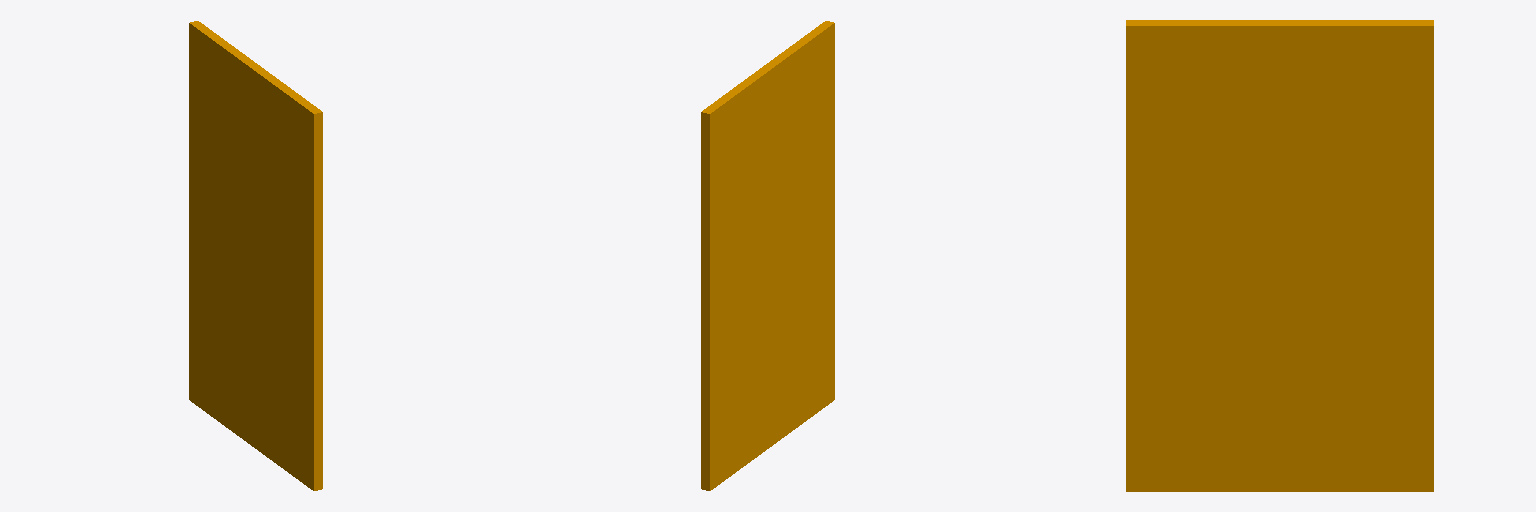
robot.urdf — simple_box:
<robot name="simple_box">

  <link name="my_box" >
    <inertial>
      <origin xyz="1 0 0" />
      <mass value="1.0" />
      <inertia  ixx="1.0" ixy="0.0"  ixz="0.0"  iyy="1.0"  iyz="0.0"  izz="1.0" />
    </inertial>
    <visual>
      <origin xyz="1 0 0"/>
      <geometry>
        <box size="0.05 1.2 2" />
      </geometry>
    </visual>
    <collision>
      <origin xyz="1 0 0"/>
      <geometry>
        <box size="0.05 1.2 2" />
      </geometry>
    </collision>
  </link>
  <gazebo reference="my_box">
    <material>Gazebo/StarryNight</material>
  </gazebo>
</robot>

--- Render facts (derived) ---
The picture shows the robot from 3 angles, left to right: view 1: azimuth 30°, elevation 25°; view 2: azimuth 150°, elevation 25°; view 3: azimuth 270°, elevation 25°; orthographic projection.
Robot: simple_box — 1 links, 0 joints (none); root link my_box; default pose: all joints at 0.
Visible links, largest first — view 1: my_box; view 2: my_box; view 3: my_box.
Boxes of the visible links, box(x1,y1,x2,y2) form: my_box: box(189, 21, 322, 490); my_box: box(701, 21, 834, 490); my_box: box(1126, 20, 1433, 491).
Bounding box of the posed robot: 0.05 × 1.2 × 2 m (x, y, z).
Geometry: primitives only (box / cylinder / sphere), no mesh files.
